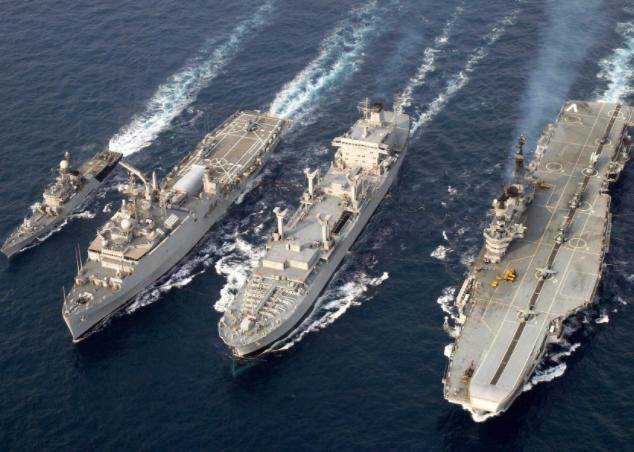bird: (435, 96, 634, 421), (59, 105, 289, 335), (222, 95, 420, 362), (1, 145, 126, 263)
